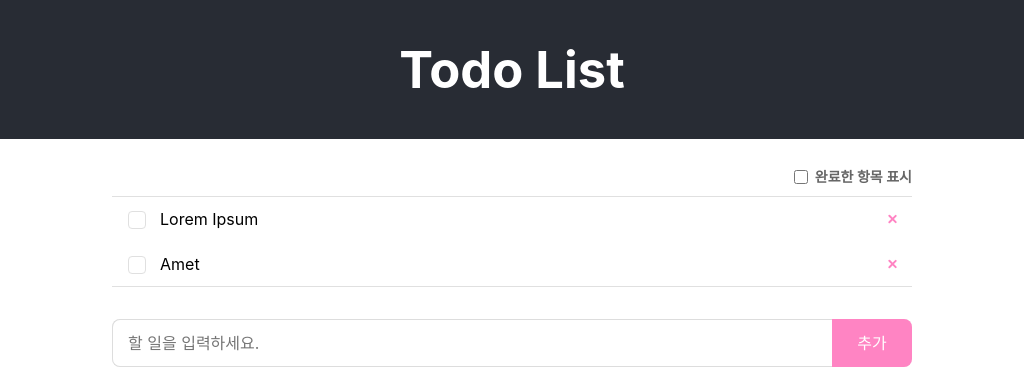
App.list › 삭제 버튼 클릭시 해당 todo가 목록에서 삭제돼야 한다.
This screenshot has width=1024, height=384.
Click the button with test id "list-item-remove-3" at (893, 264), box [882,253,904,275]
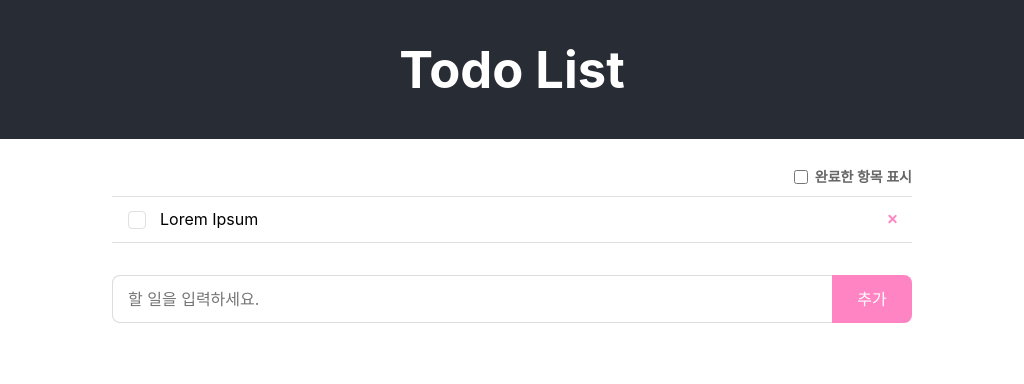
Check: the list with test id "list" no longer shows "Amet", box [112,196,912,243]
